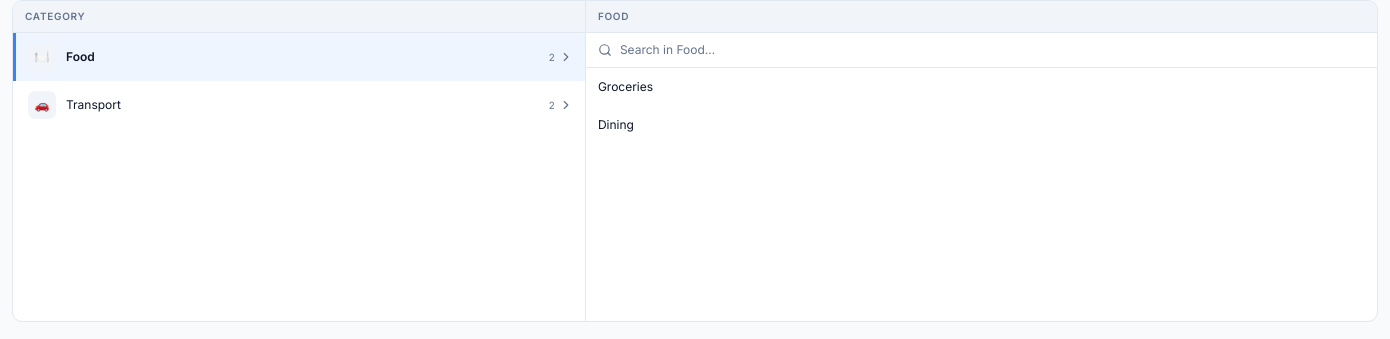
Test: SubCategoryPicker › desktop two-pane interaction › shows children of clicked parent
What coordinates should you click on to do the following:
click the button "🚗 Transport 2"
I would click on:
 (93, 104)
Its box is [13, 81, 585, 129].
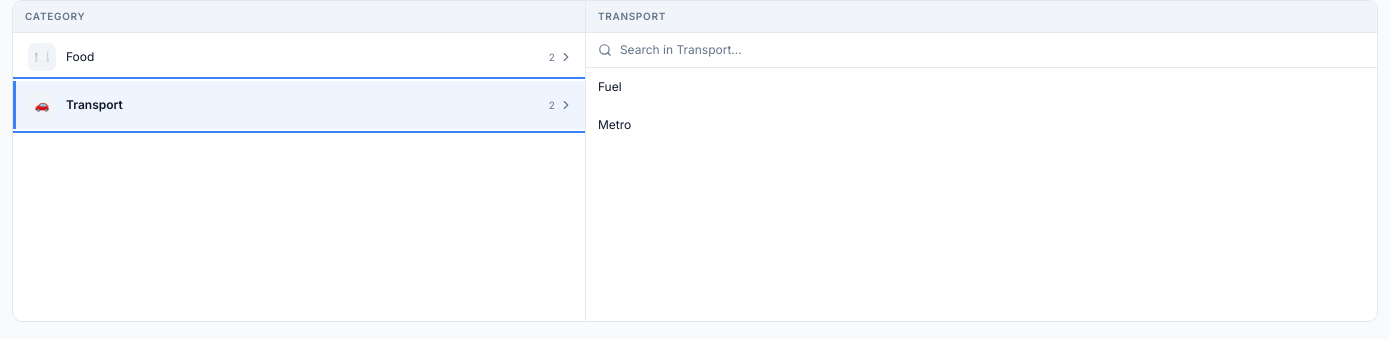
Check: the text "Fuel" is shown, box [598, 78, 622, 96]
Check: the text "Metro" is shown, box [598, 116, 631, 134]
